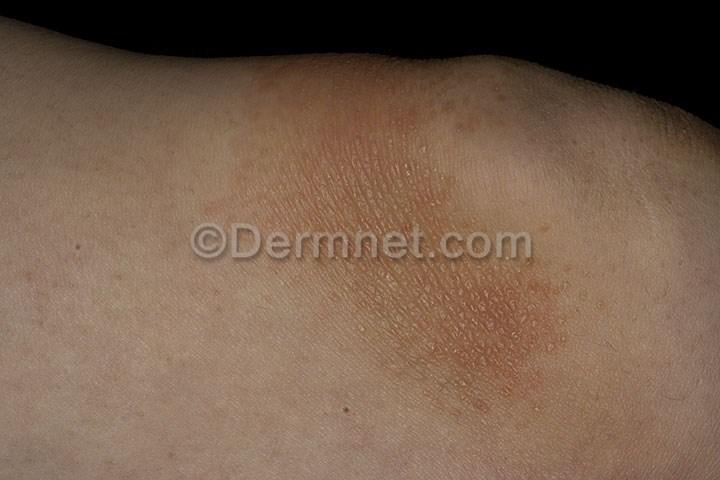Eczema: (245, 56, 569, 229), (304, 264, 623, 427)
